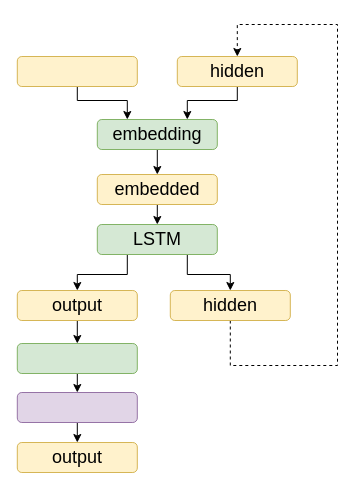
Image size: 364x490. Some labels were removed from this diagram. Each missing label, with the box of its shape:
input: (16, 56, 137, 86)
out: (16, 342, 137, 374)
softmax: (16, 392, 137, 422)
